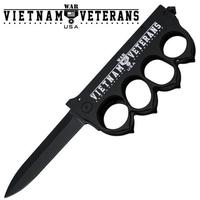knife: (3, 7, 182, 199)
